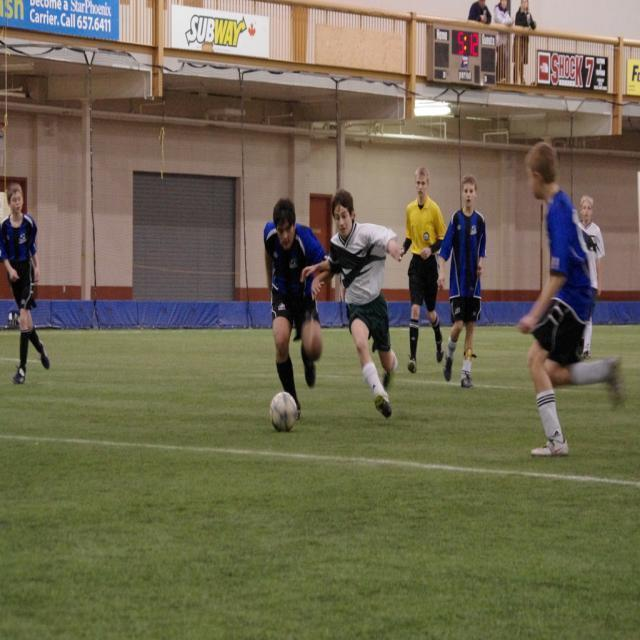ball: (270, 391, 303, 436)
